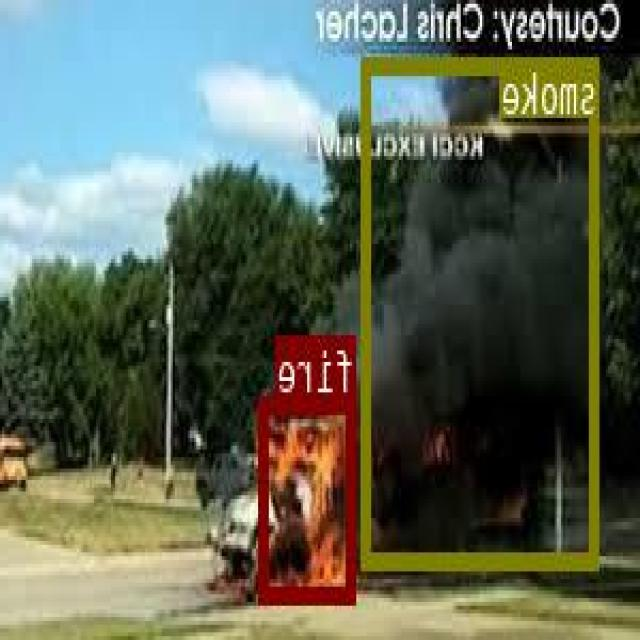fire: (262, 395, 358, 601)
smoke: (363, 56, 601, 568)
